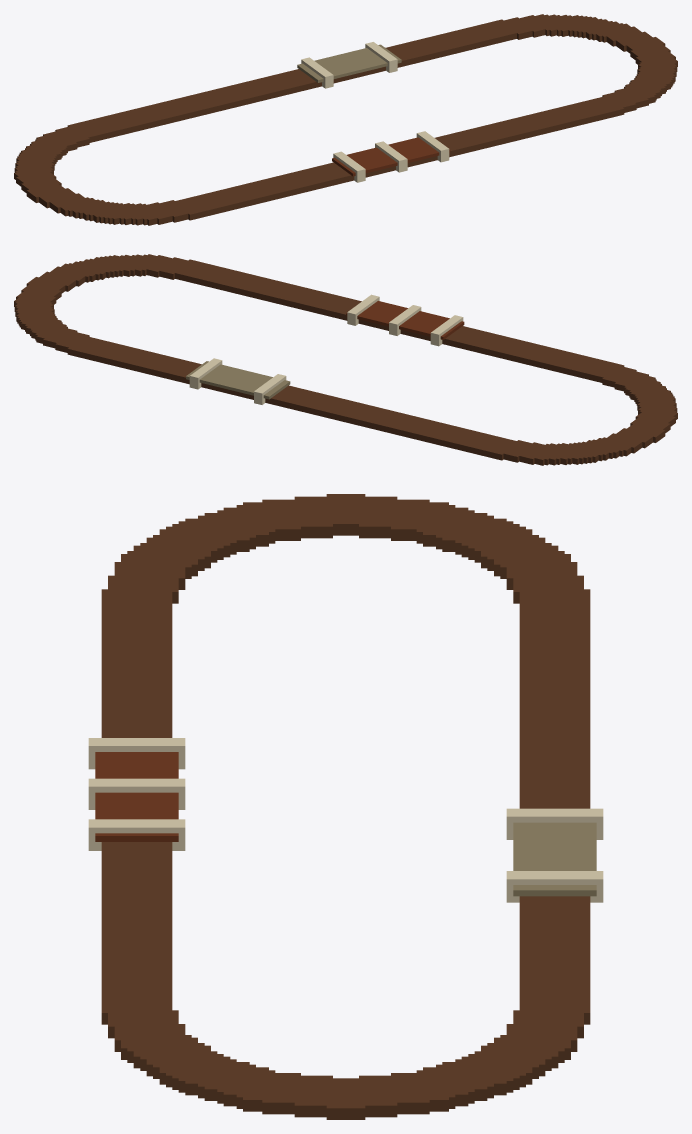
File: drivebelt_makeshift.glb
3 views of the same model, one above another, from view 1: azimuth 30°, elevation 25°; view 2: azimuth 150°, elevation 25°; view 3: azimuth 270°, elevation 25° (orthographic). The views are drawn at different scales.
Visible parts, largest first — view 1: drivebelt_makeshift:compound; view 2: drivebelt_makeshift:compound; view 3: drivebelt_makeshift:compound.
Part boxes in pixels (x1,y1,x2,y2): drivebelt_makeshift:compound: (14,14,677,225); drivebelt_makeshift:compound: (14,254,677,465); drivebelt_makeshift:compound: (88,494,603,1119).
Bounding box in the file's own units: 0.904 × 0.016 × 0.32.
